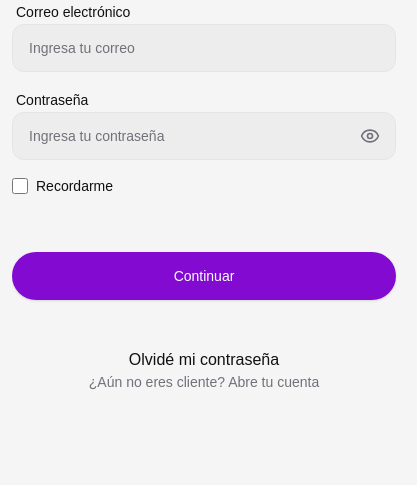
Test: Login (sin 2FA) — Pruebas de integración (tabla de caminos Frontend↔Backend) › Camino 1,2,4,5,7,8,9,15,17,F — servidor responde 401 INVALID_CREDENTIALS (correo no registrado) › muestra 'Correo o contraseña incorrectos' cuando el correo no está registrado
The image size is (417, 485).
Type "noexiste@mail.com" into the field labelled "Correo electrónico".
click(204, 48); type("noexiste@mail.com")  # box [12,24,396,72]
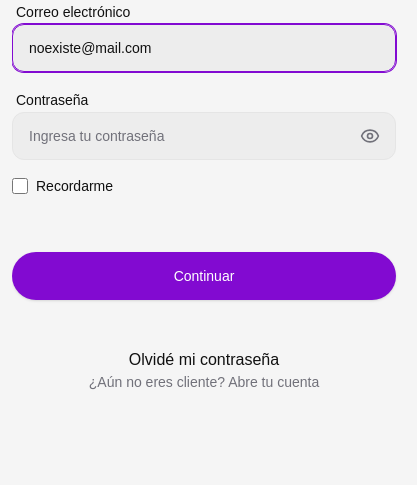
Type "abc123" into the password field labelled "Contraseña".
click(204, 136); type("abc123")  # box [12,112,396,160]
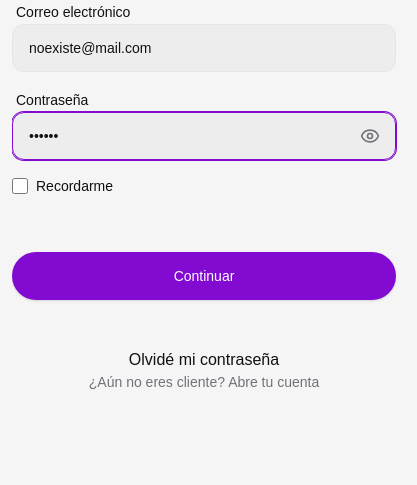
Click the button "Continuar".
click(204, 276)  # box [12,252,396,300]
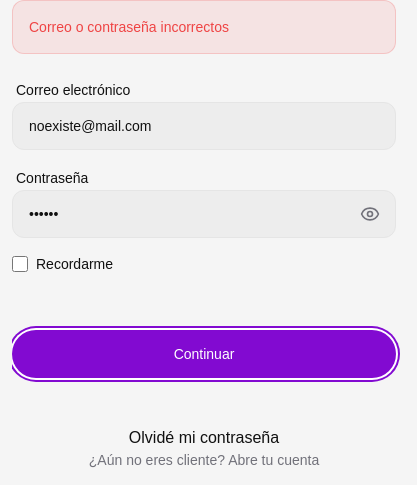
Now the text "Correo o contraseña incorrectos" is shown, box [12,0,396,54]
